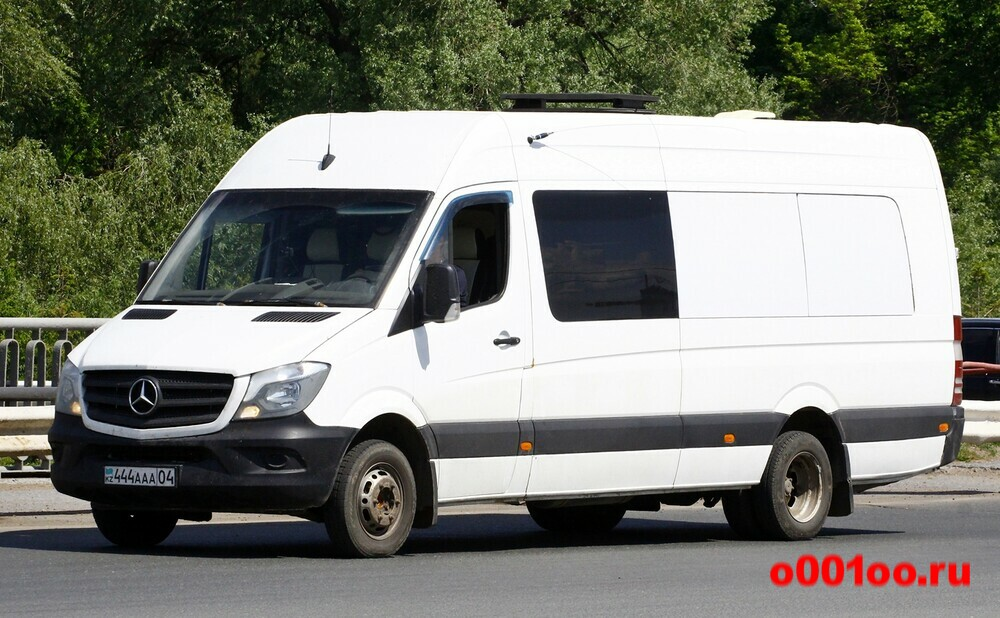license_plate: (101, 462, 178, 491)
